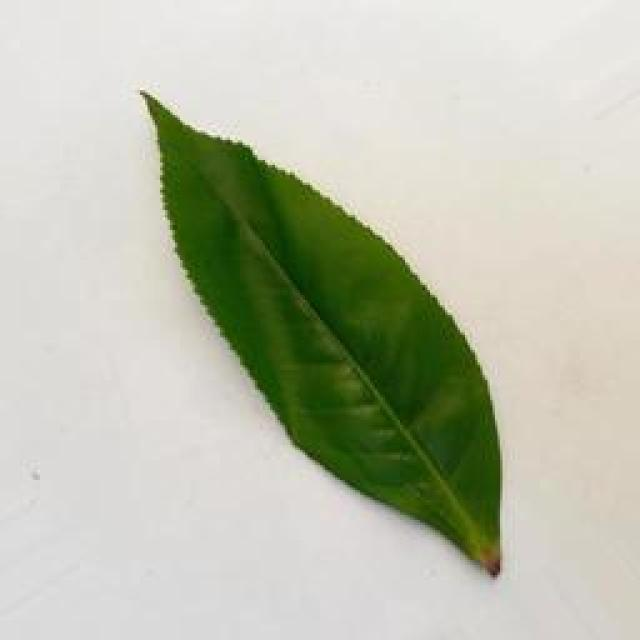Healthy: (126, 81, 514, 582)
